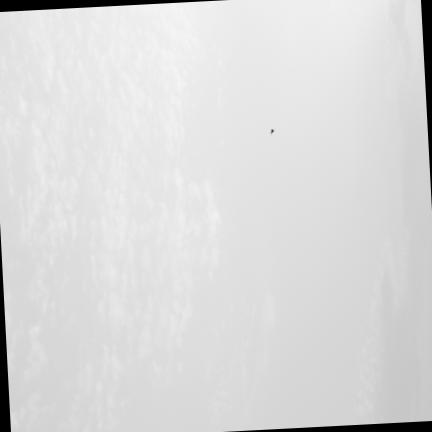Shahed: (270, 129, 275, 134)
